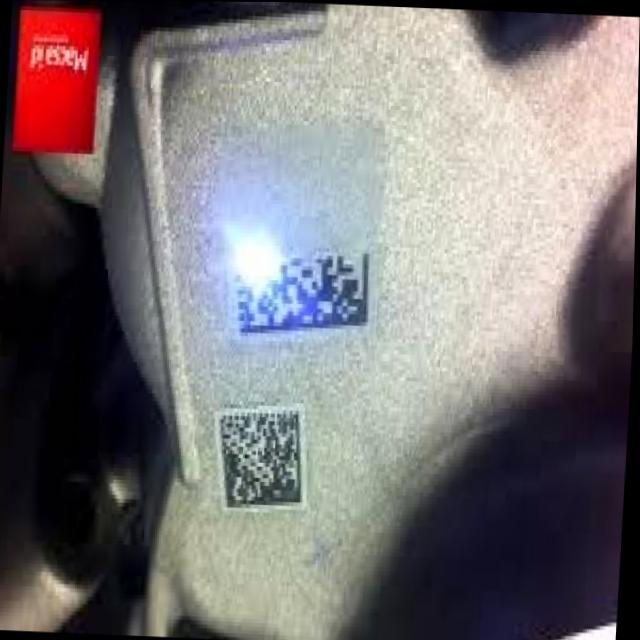datamatrix: (221, 155, 386, 344), (210, 395, 320, 517)
